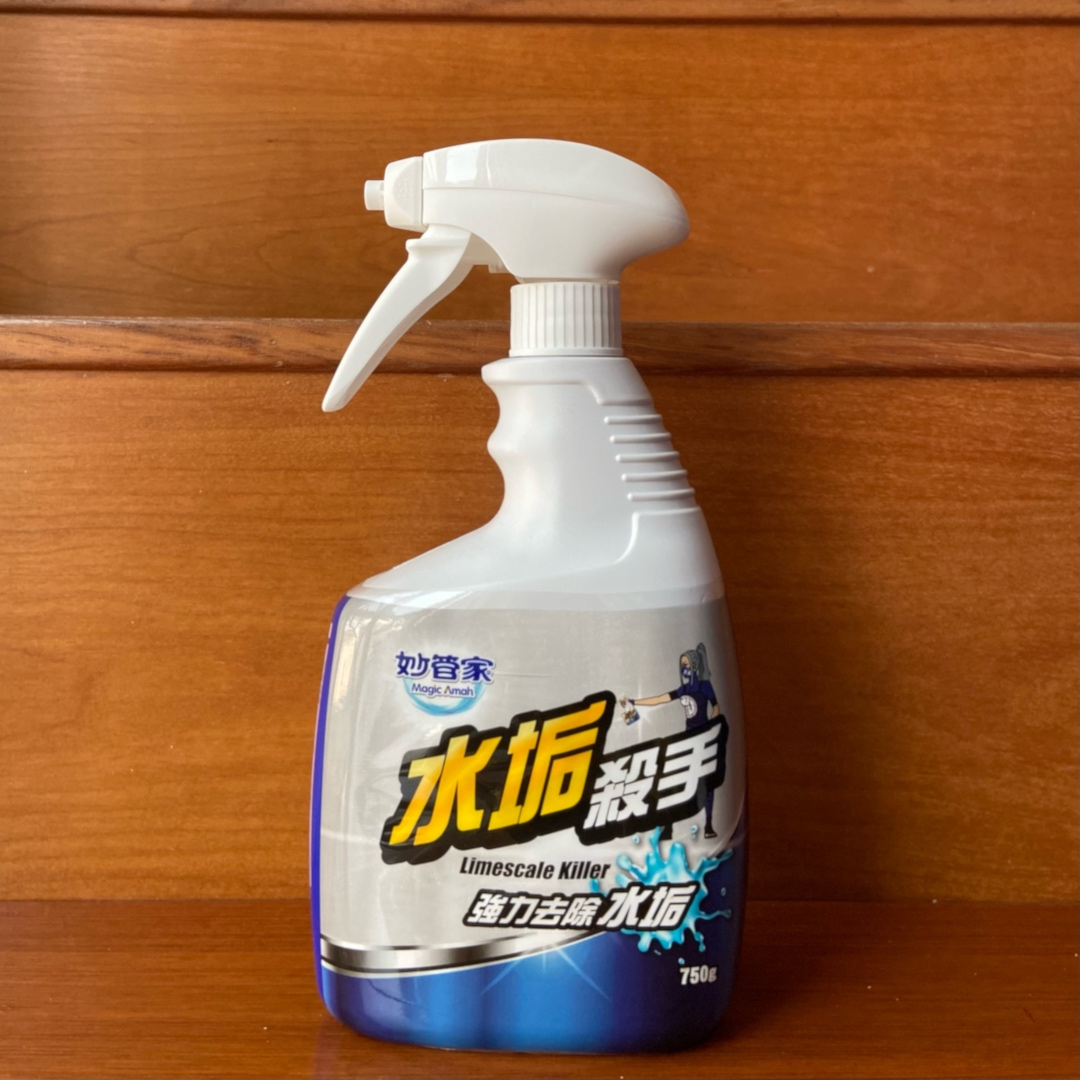cleaner: (263, 132, 779, 1053)
